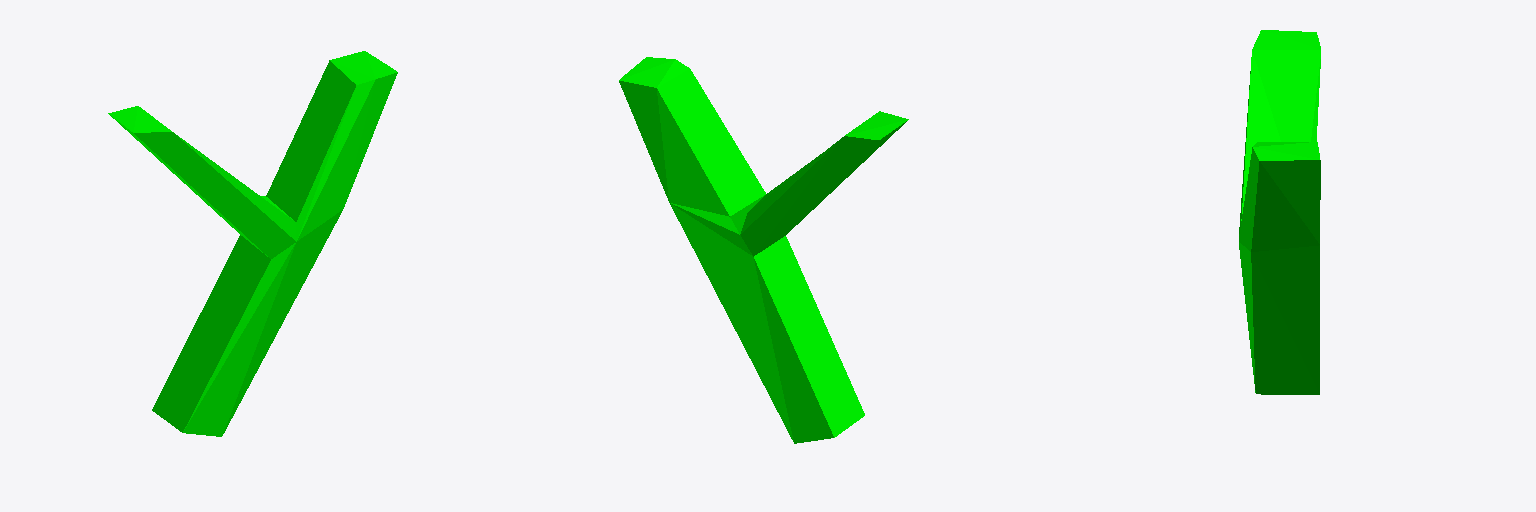
File: csystemY.obj
The picture shows the model from 3 angles: view 1: azimuth 30°, elevation 25°; view 2: azimuth 150°, elevation 25°; view 3: azimuth 270°, elevation 25°; orthographic projection.
Visible parts, largest first — view 1: CoordinateSystem_Y_CoordinateSystem_CoordinateSystemMesh.003; view 2: CoordinateSystem_Y_CoordinateSystem_CoordinateSystemMesh.003; view 3: CoordinateSystem_Y_CoordinateSystem_CoordinateSystemMesh.003.
Part boxes in pixels (bbox=[...]): CoordinateSystem_Y_CoordinateSystem_CoordinateSystemMesh.003: bbox=[108, 51, 397, 436]; CoordinateSystem_Y_CoordinateSystem_CoordinateSystemMesh.003: bbox=[619, 57, 908, 443]; CoordinateSystem_Y_CoordinateSystem_CoordinateSystemMesh.003: bbox=[1239, 30, 1320, 394].
Size of the model in its own units: 0.0166 by 0.0195 by 0.0045.